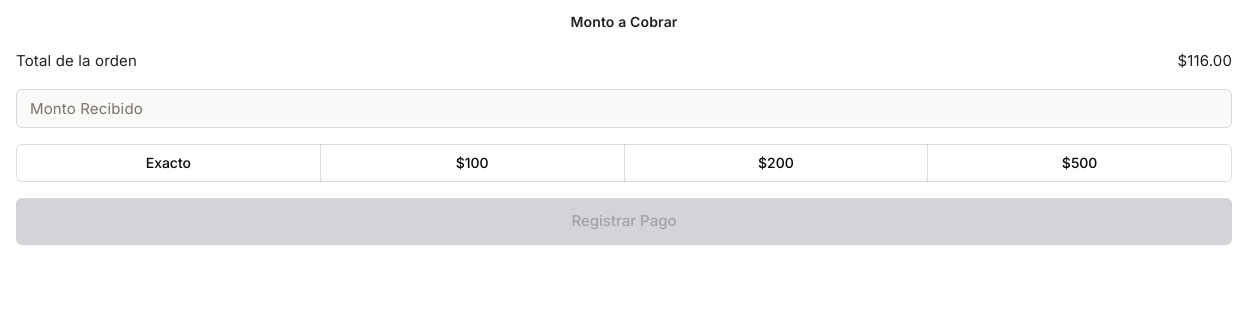
PaymentForm › sets 200 when $200 quick button is clicked
The image size is (1249, 323).
Click the button named "200 pesos" at (776, 163), box [624,144,928,182]
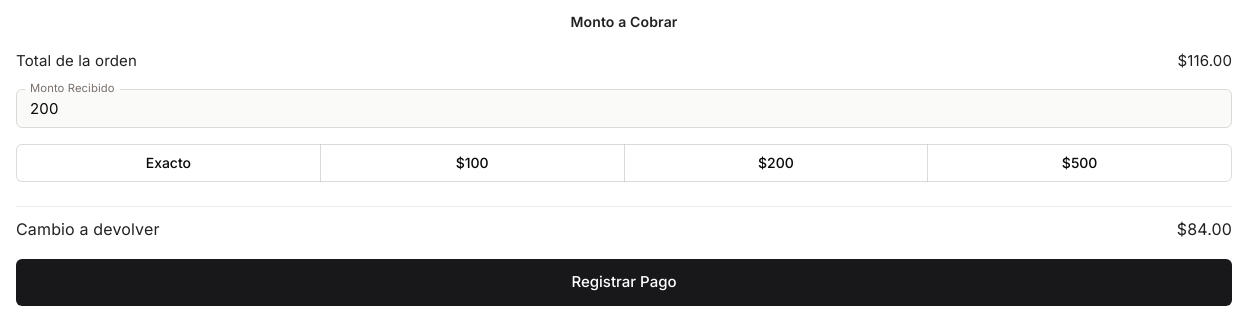
expect the number field labelled "Monto Recibido" holds "200": met, box [16,89,1232,128]
